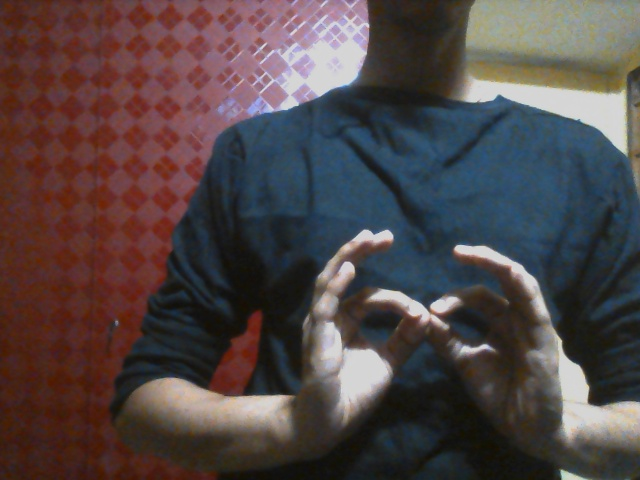B: (291, 227, 570, 480)
